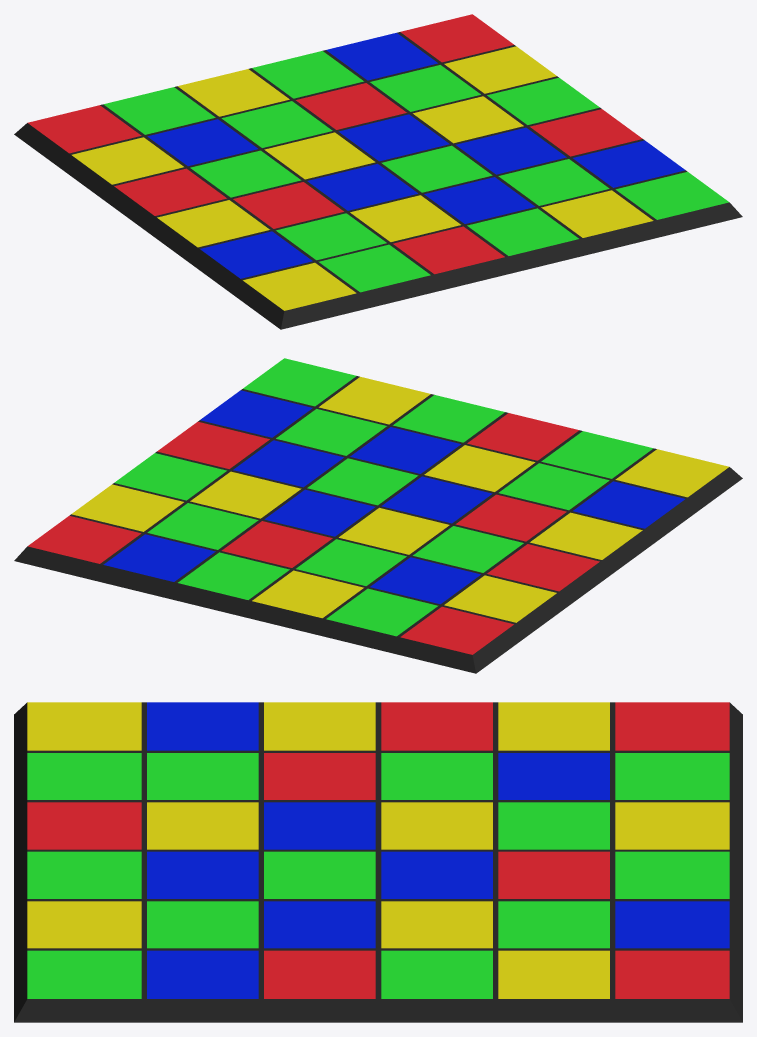
Rendered from DiscodanceFloor.fbx.
The picture shows the model from 3 angles, top to bottom: view 1: azimuth 30°, elevation 25°; view 2: azimuth 150°, elevation 25°; view 3: azimuth 270°, elevation 25°; orthographic projection. The views are drawn at different scales.
Parts seen in each view (by area): view 1: Plane; view 2: Plane; view 3: Plane.
Part boxes in pixels (bbox=[...]): Plane: bbox=[14, 14, 742, 329]; Plane: bbox=[14, 358, 742, 673]; Plane: bbox=[14, 702, 742, 1022].
Size of the model in its own units: 2078 by 56.52 by 2078.
